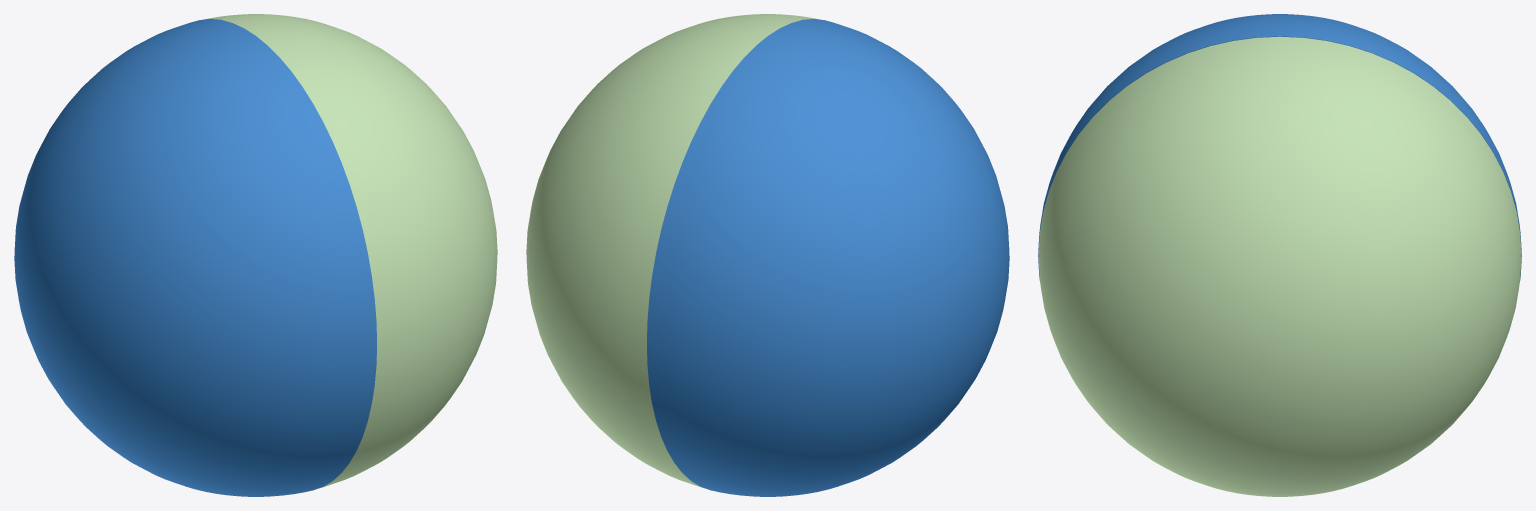
Rendered from planet.glb.
3 views of the same model, side by side, from view 1: azimuth 30°, elevation 25°; view 2: azimuth 150°, elevation 25°; view 3: azimuth 270°, elevation 25° (orthographic).
Visible parts, largest first — view 1: surface, layer_0; view 2: surface, layer_0; view 3: layer_0, surface.
Boxes of the visible parts, x1,y1,x2,y2 form: surface: [14, 19, 376, 496]; layer_0: [204, 14, 497, 487]; surface: [647, 19, 1009, 496]; layer_0: [526, 14, 819, 487]; layer_0: [1038, 36, 1521, 496]; surface: [1038, 14, 1521, 282].
Bounding box in the file's own units: 4 × 4.01 × 4.01.
